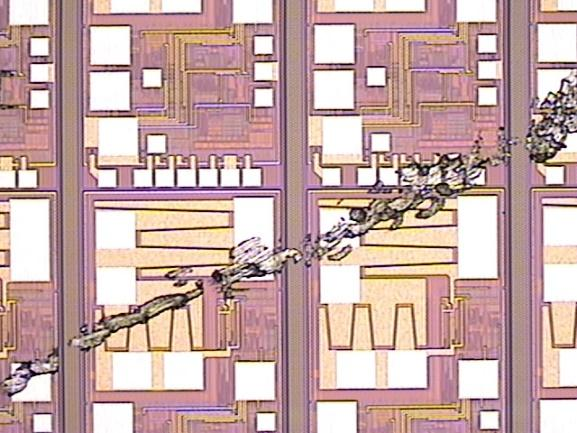SCRATCH: (1, 65, 577, 399)
